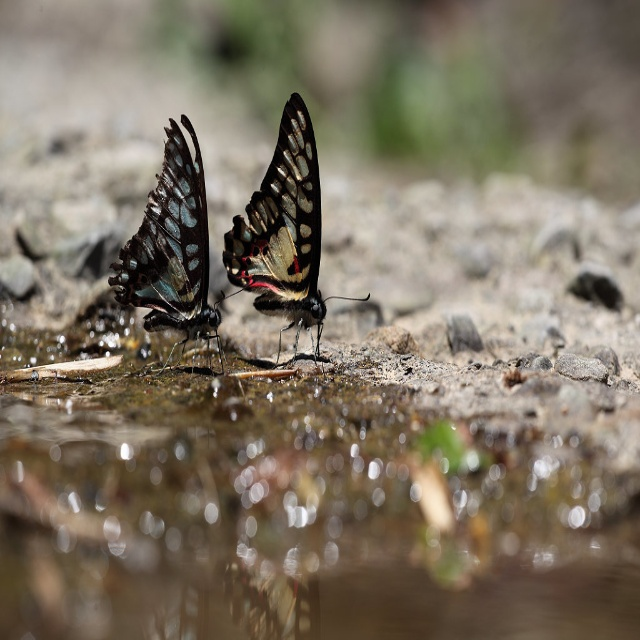Butterfly: (225, 90, 370, 373), (109, 116, 236, 381)
